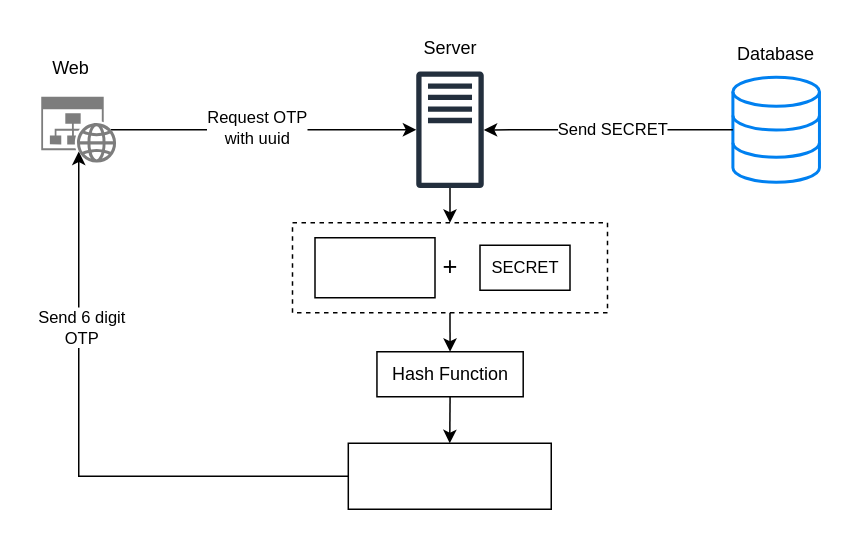
Image size: 846x536. Some labels were removed from this diagram. Here are the shapes that lost their labels. From the top down, the centre of each, then its label:
At (374,267): "Current Timestamp".
At (449,475): "Calculate Expiry time".
